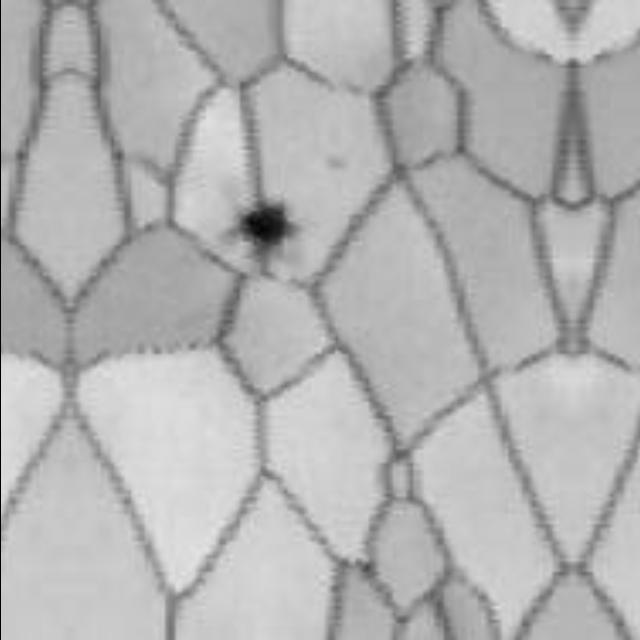good_void: (221, 194, 290, 265)
